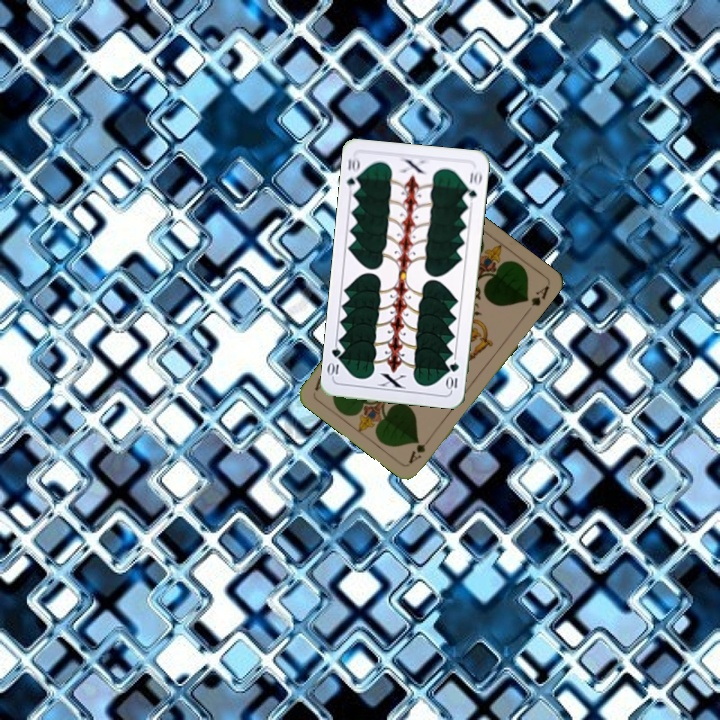G10: (343, 153, 363, 194), (444, 358, 461, 393)
GA: (404, 440, 428, 466)
